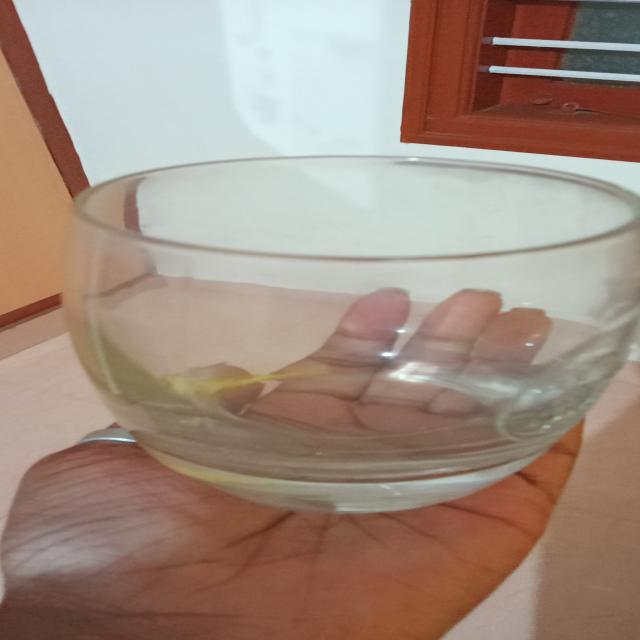Glass: (49, 149, 640, 520)
